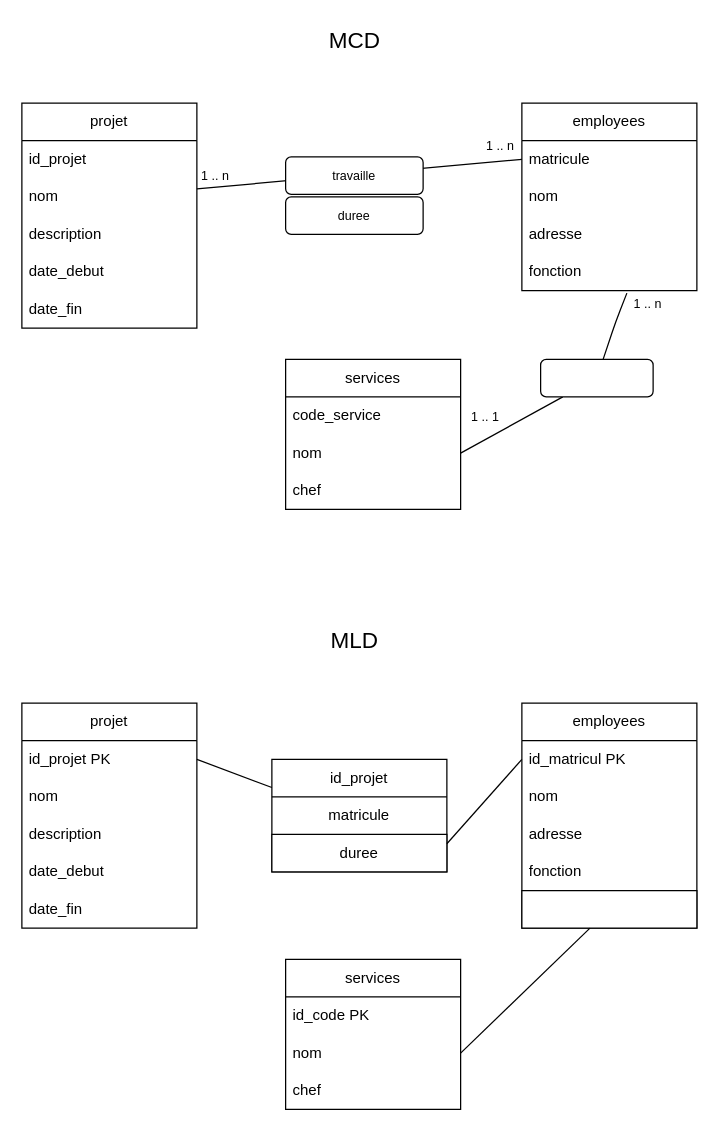
Some shapes in this 719 by 1131 pixel diagram are drawn without their labels. Each missing label, with the centre of its shape:
appartenir: [596,377]
service_code_service: [609,908]
